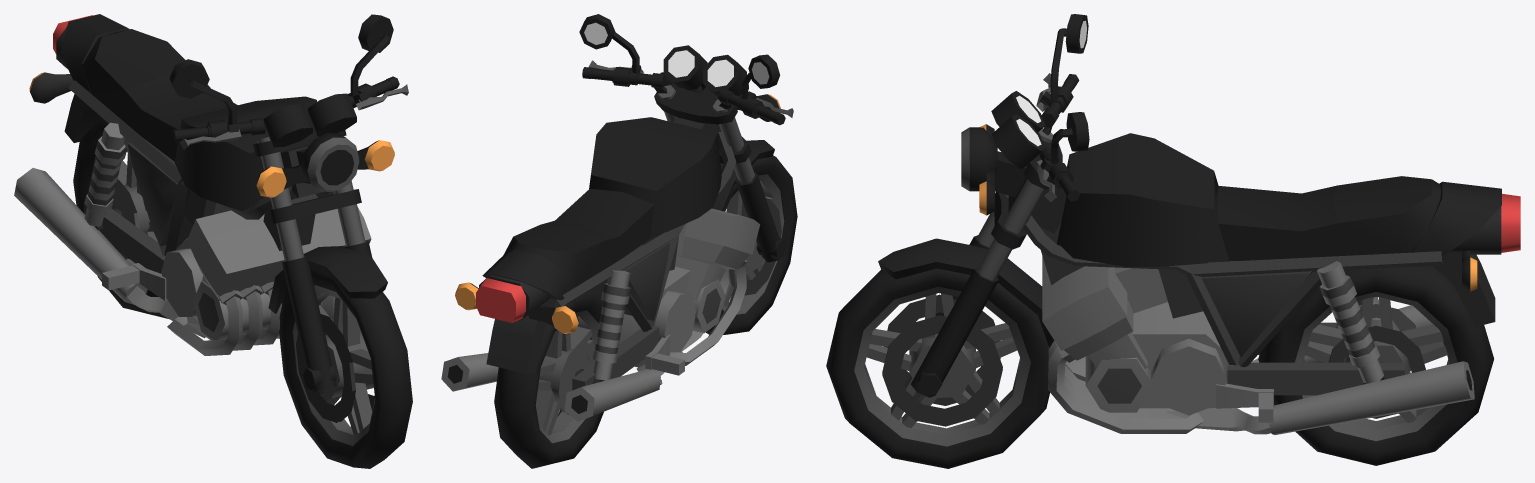
File: Bike_OP.fbx
The picture shows the model from 3 angles, left to right: view 1: azimuth 30°, elevation 25°; view 2: azimuth 150°, elevation 25°; view 3: azimuth 270°, elevation 25°; orthographic projection. The views are drawn at different scales.
Visible parts, largest first — view 1: Bike_BLK, Front Wheel.001, Rear Wheel.001; view 2: Bike_BLK, Rear Wheel.001, Front Wheel.001; view 3: Bike_BLK, Front Wheel.001, Rear Wheel.001.
Boxes of the visible parts, x1,y1,x2,y2 form: Bike_BLK: [14, 14, 408, 391]; Front Wheel.001: [279, 267, 412, 468]; Rear Wheel.001: [73, 118, 183, 318]; Bike_BLK: [441, 14, 793, 421]; Rear Wheel.001: [494, 288, 603, 468]; Front Wheel.001: [706, 155, 797, 334]; Bike_BLK: [878, 14, 1520, 434]; Front Wheel.001: [826, 268, 1049, 468]; Rear Wheel.001: [1258, 266, 1493, 465].
Size of the model in its own units: 0.7738 by 1.23 by 1.93.
1 material, 1 textured.
